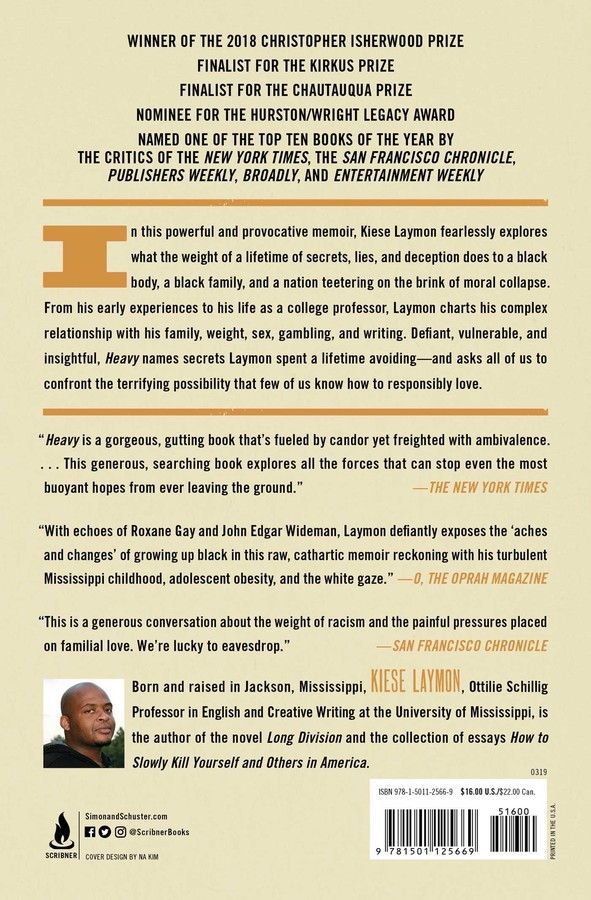barcode: (383, 800, 544, 859)
